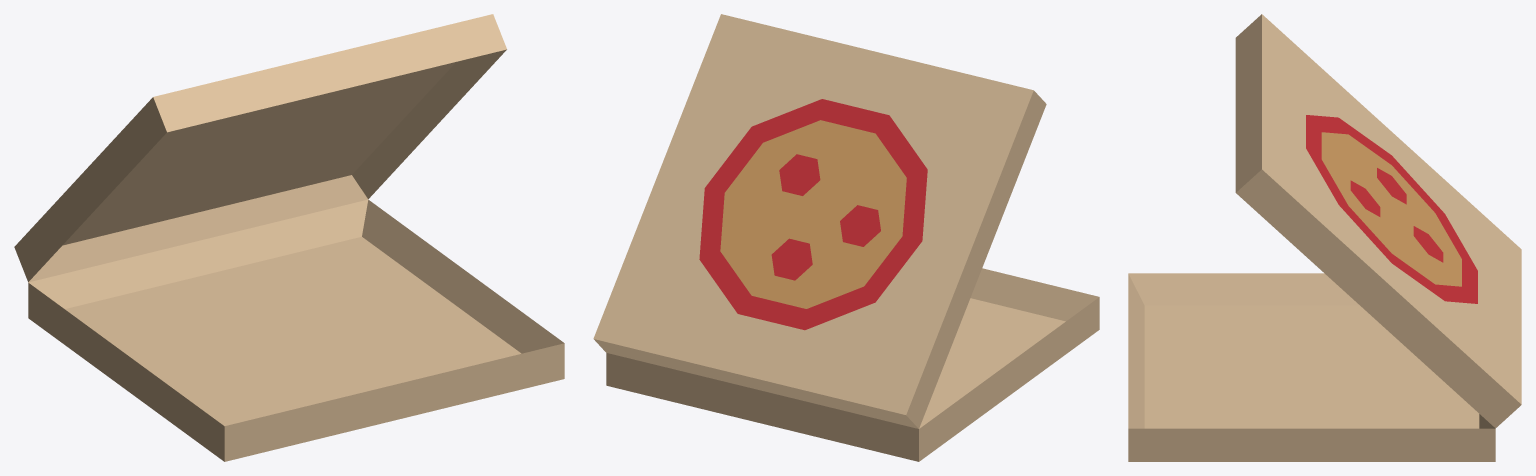
Rendered from food-pizza-box.glb.
3 renders of one model, left to right at view 1: azimuth 30°, elevation 25°; view 2: azimuth 150°, elevation 25°; view 3: azimuth 270°, elevation 25°, orthographic. The views are drawn at different scales.
Visible parts, largest first — view 1: pizza-box; view 2: pizza-box; view 3: pizza-box.
Part boxes in pixels (<box>): pizza-box: <box>14,14,564,461</box>; pizza-box: <box>593,14,1099,461</box>; pizza-box: <box>1128,14,1521,461</box>.
Bounding box in the file's own units: 0.4 × 0.3514 × 0.4284.
